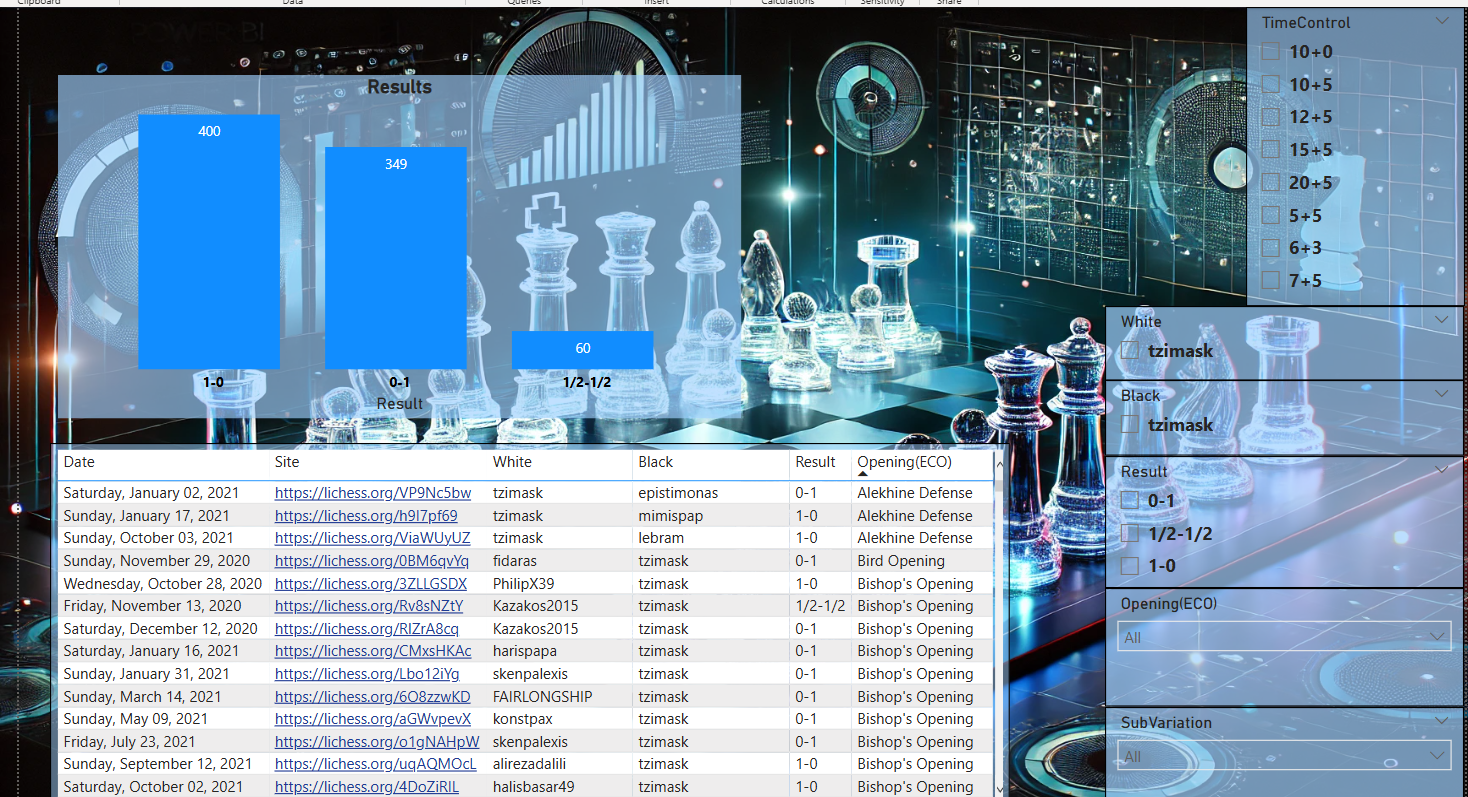

Layout of this report page (visuals, bound fields, positions):
{"tool":"powerbi","page":{"name":"Page 1","canvas":[1280,720],"ordinal":0},"visuals":[{"type":"columnChart","title":"Results","fields":{"Category":["Sheet1.Result"],"Y":["Sheet1.Result"]},"box":[34.5,60.4,605.5,303.6],"z":0},{"type":"tableEx","fields":{"Values":["Sheet1.Date","Sheet1.Site","Sheet1.White","Sheet1.Black","Sheet1.Result","Sheet1.Opening(ECO)"]},"box":[27.6,386.4,849.6,332.9],"z":1000},{"type":"slicer","fields":{"Values":["Sheet1.TimeControl"]},"box":[1086.4,0,193.6,264.6],"z":2000},{"type":"slicer","fields":{"Values":["Sheet1.White"]},"box":[961.9,264.6,318.1,66.1],"z":3000},{"type":"slicer","fields":{"Values":["Sheet1.Black"]},"box":[961.9,330.7,318.1,67.1],"z":4000},{"type":"slicer","fields":{"Values":["Sheet1.Result"]},"box":[961.9,397.8,318.1,116.7],"z":5000},{"type":"slicer","fields":{"Values":["Sheet1.Opening(ECO)"]},"box":[961.9,514.5,318.1,105],"z":6000},{"type":"slicer","fields":{"Values":["Sheet1.SubVariation"]},"box":[961.9,619.6,318.1,100.2],"z":7000}]}

Visuals, with their boxes in screenshot pixels (x1, y1, x2, y2):
"Results" columnChart: bbox=(54, 68, 738, 411)
tableEx - Sheet1.Date x Sheet1.Site: bbox=(46, 436, 1006, 796)
slicer - Sheet1.TimeControl: bbox=(1242, 0, 1461, 299)
slicer - Sheet1.White: bbox=(1101, 299, 1461, 373)
slicer - Sheet1.Black: bbox=(1101, 373, 1461, 449)
slicer - Sheet1.Result: bbox=(1101, 449, 1461, 581)
slicer - Sheet1.Opening(ECO): bbox=(1101, 581, 1461, 700)
slicer - Sheet1.SubVariation: bbox=(1101, 700, 1461, 796)
